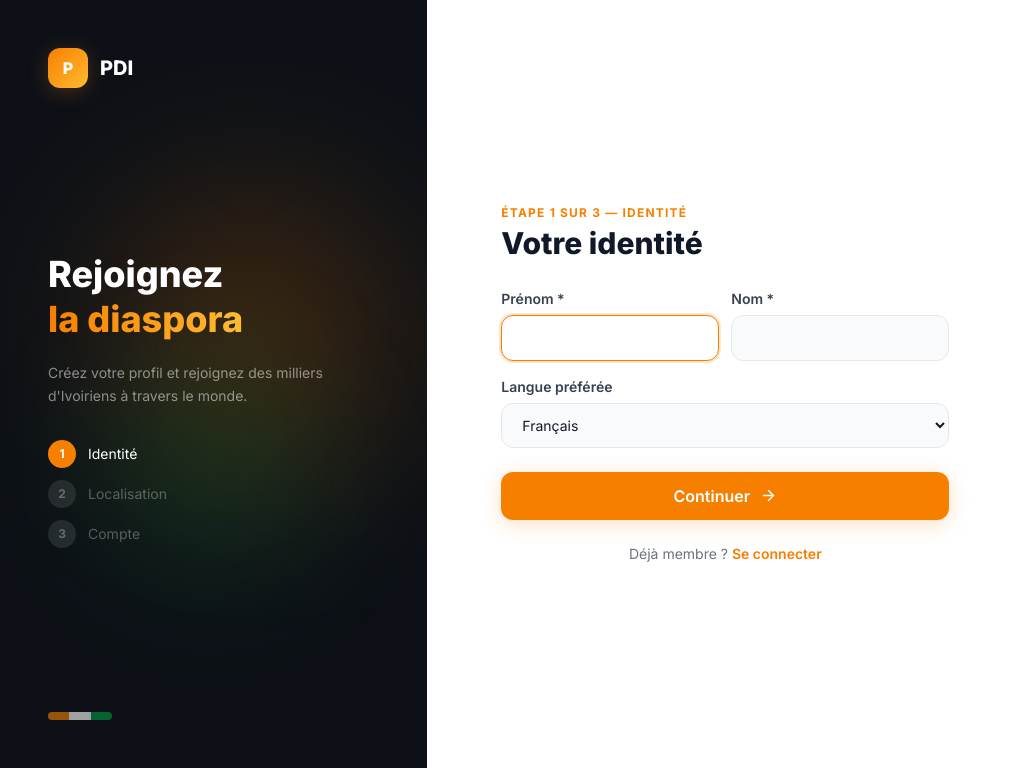
RegisterPage › advances to step 2 when step 1 is valid
The image size is (1024, 768).
Type "Kouamé" into the field labelled "Prénom *" at point(610, 338), box top-left (501, 314), bottom-right (719, 360)
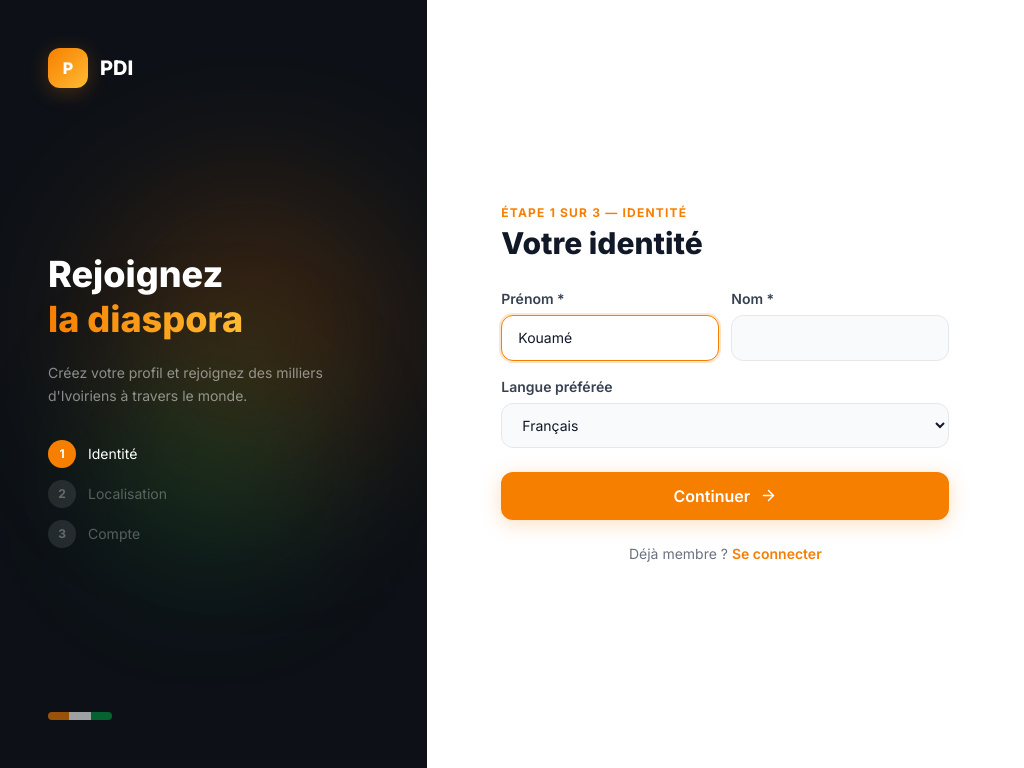
Type "Diallo" into the field labelled "Nom *" at point(840, 338), box top-left (731, 314), bottom-right (949, 360)
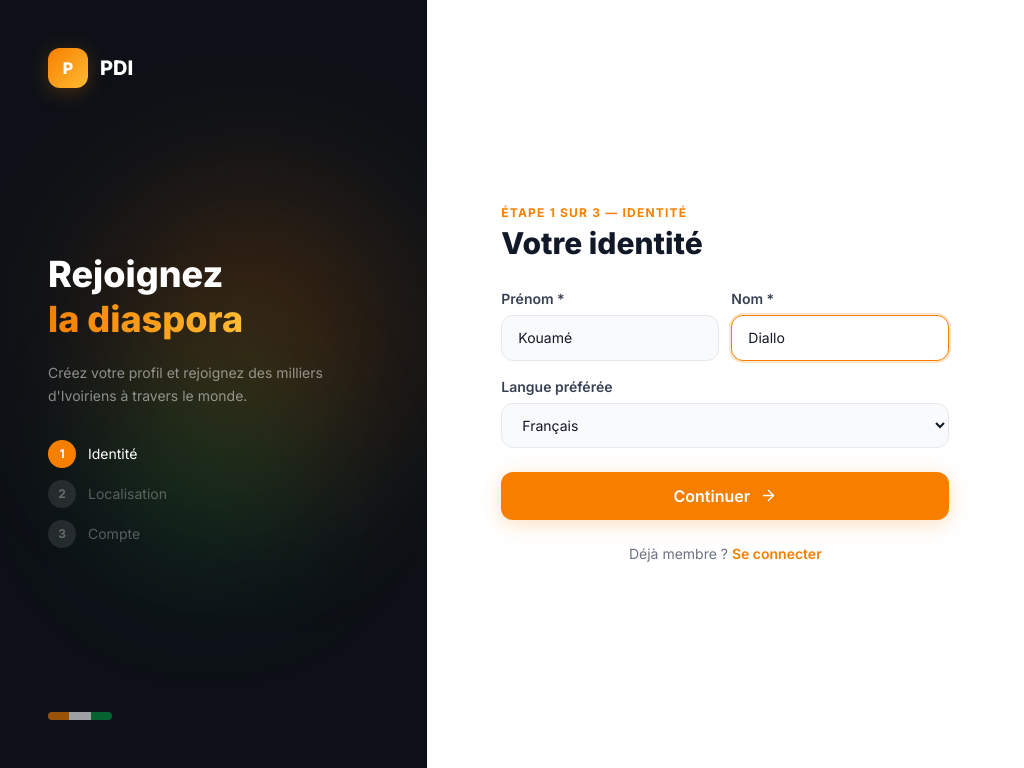
Click the button "Continuer" at point(725, 496), box top-left (501, 472), bottom-right (949, 520)
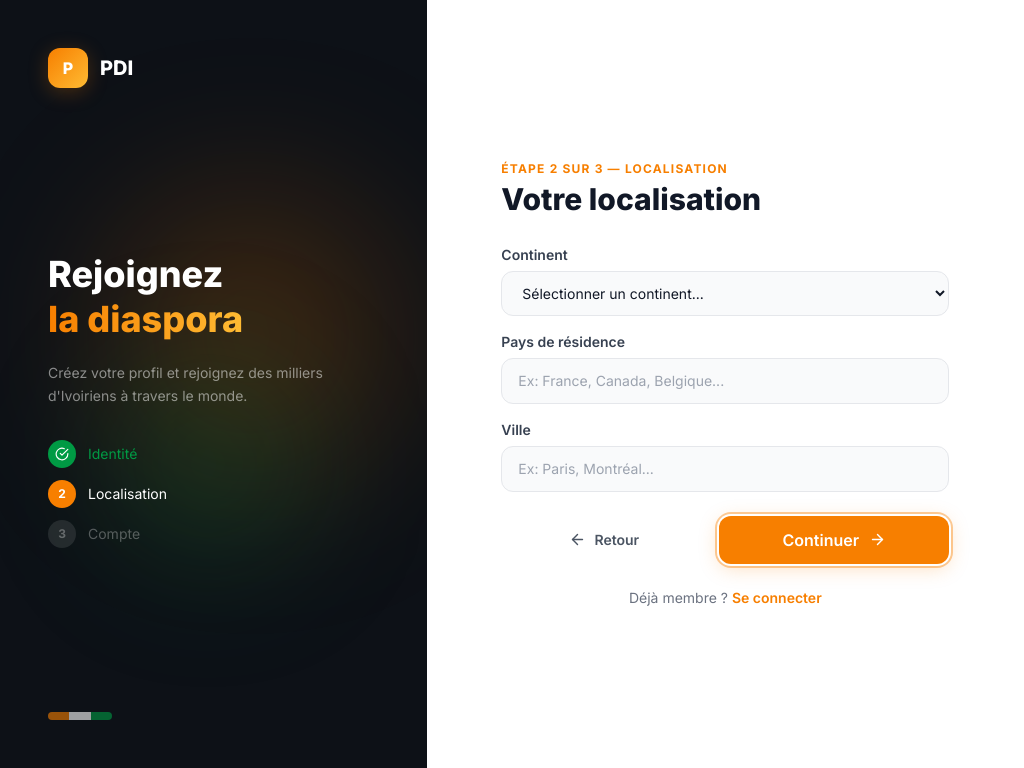
expect the heading "Votre localisation" is shown: met, box top-left (501, 180), bottom-right (761, 216)
